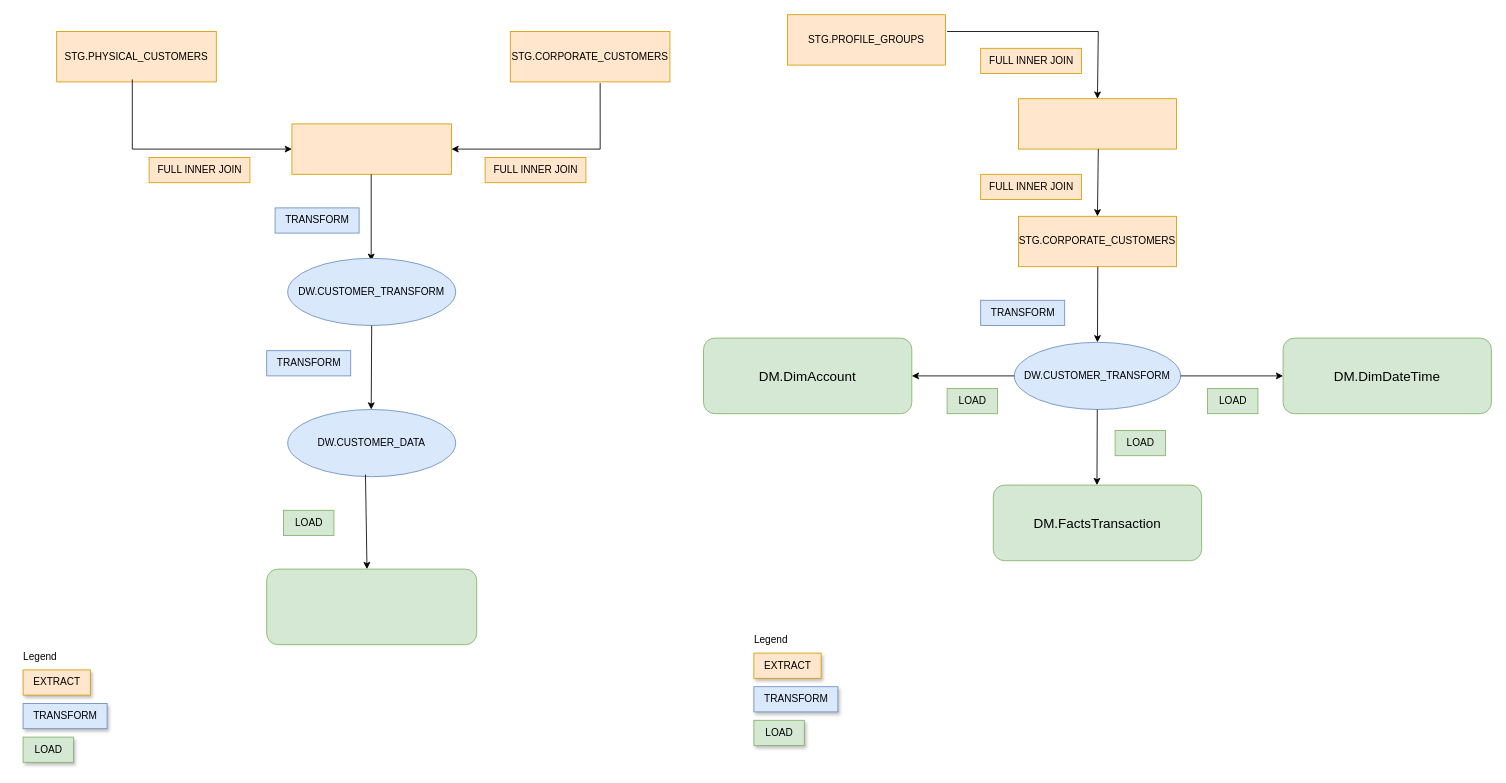
Some shapes in this 1506 by 783 pixel diagram are drawn without their labels. The centre of each missing label's shape, as x and y in pixels:
DM.DimCustomer: (x=371, y=606)
STG.ACCOUNTS: (x=1097, y=123)
STG.BANKING_CUSTOMERS: (x=371, y=148)
